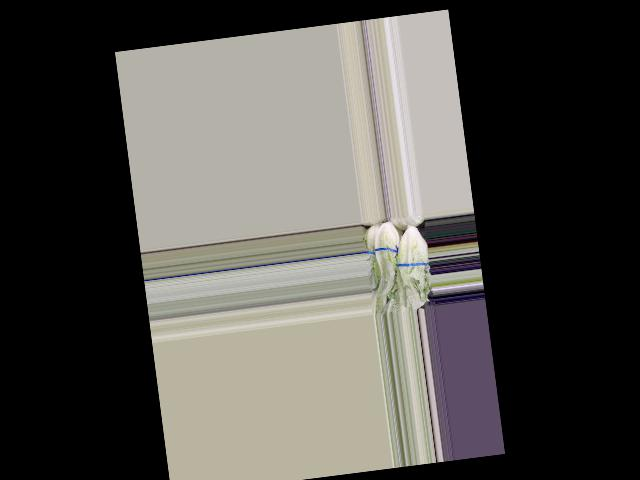lettuce: (365, 219, 406, 298)
